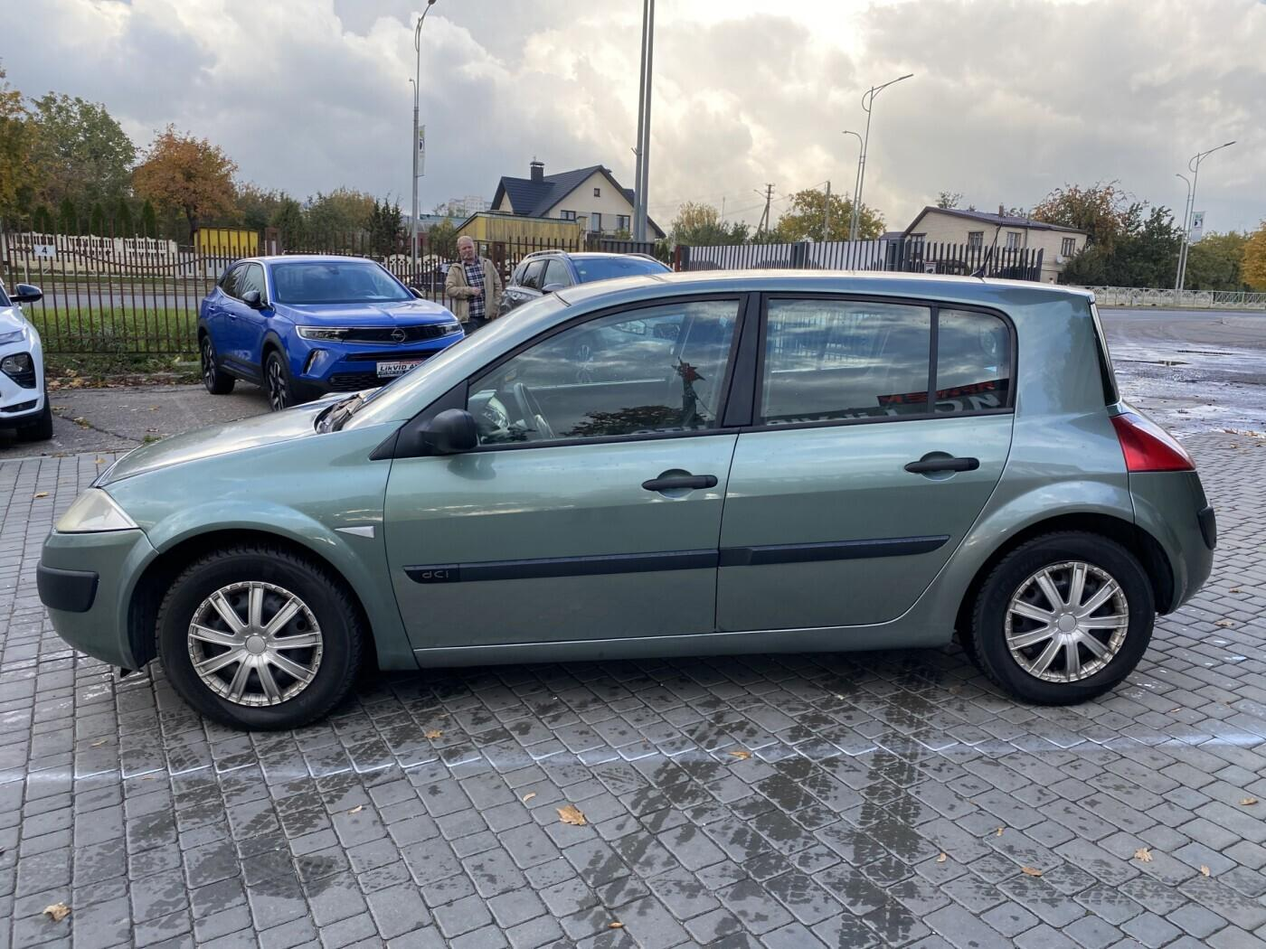Megane_2002-2006: (28, 266, 1225, 720)
